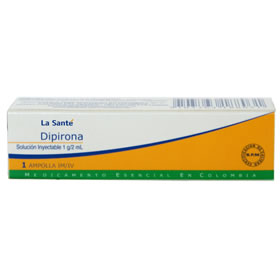LaSante: (8, 111, 275, 181)
